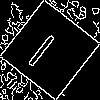I: (24, 24, 64, 70)
